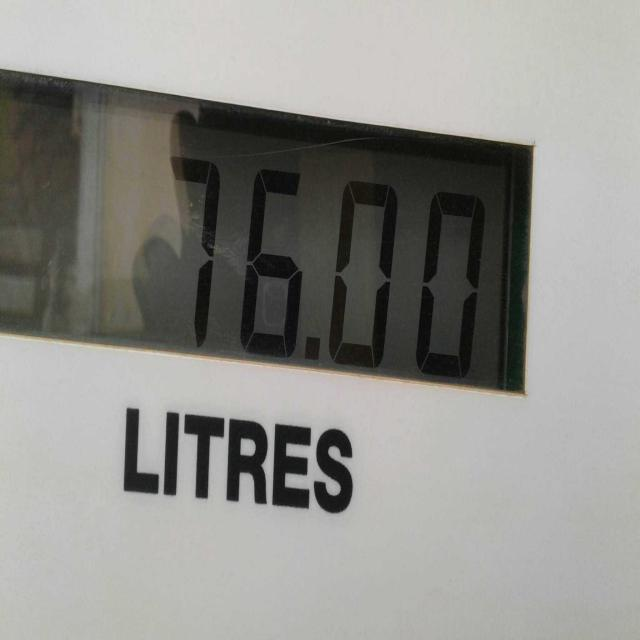.: (308, 331, 322, 360)
0: (333, 181, 393, 371), (420, 189, 479, 379)
6: (246, 167, 305, 362)
7: (170, 154, 216, 346)
